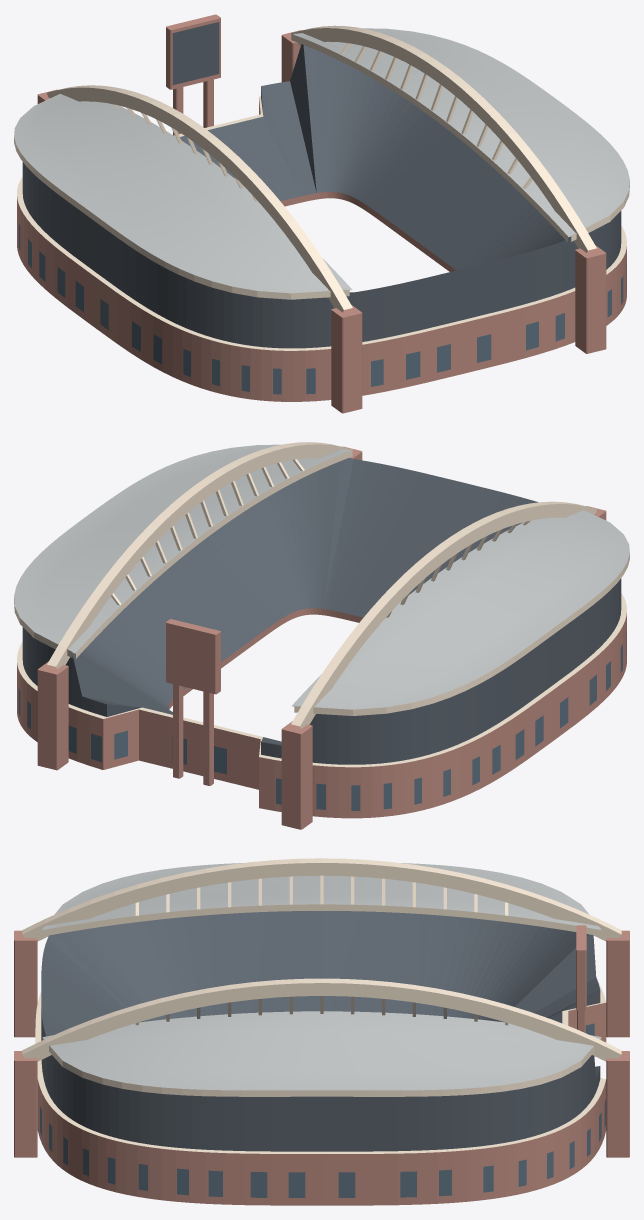
Rendered from detail.glb.
The picture shows the model from 3 angles, top to bottom: view 1: azimuth 30°, elevation 25°; view 2: azimuth 150°, elevation 25°; view 3: azimuth 270°, elevation 25°; orthographic projection.
Parts seen in each view (by area): view 1: lumen-field; view 2: lumen-field; view 3: lumen-field.
Part boxes in pixels (x1=…): lumen-field: x1=14, y1=14, x2=629, y2=413; lumen-field: x1=14, y1=442, x2=629, y2=829; lumen-field: x1=14, y1=858, x2=629, y2=1205.
Size of the model in its own units: 229 by 80 by 260.
